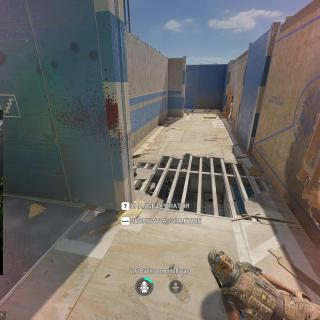Character: (205, 246, 319, 320), (163, 178, 174, 195)
Head: (207, 249, 236, 278)
